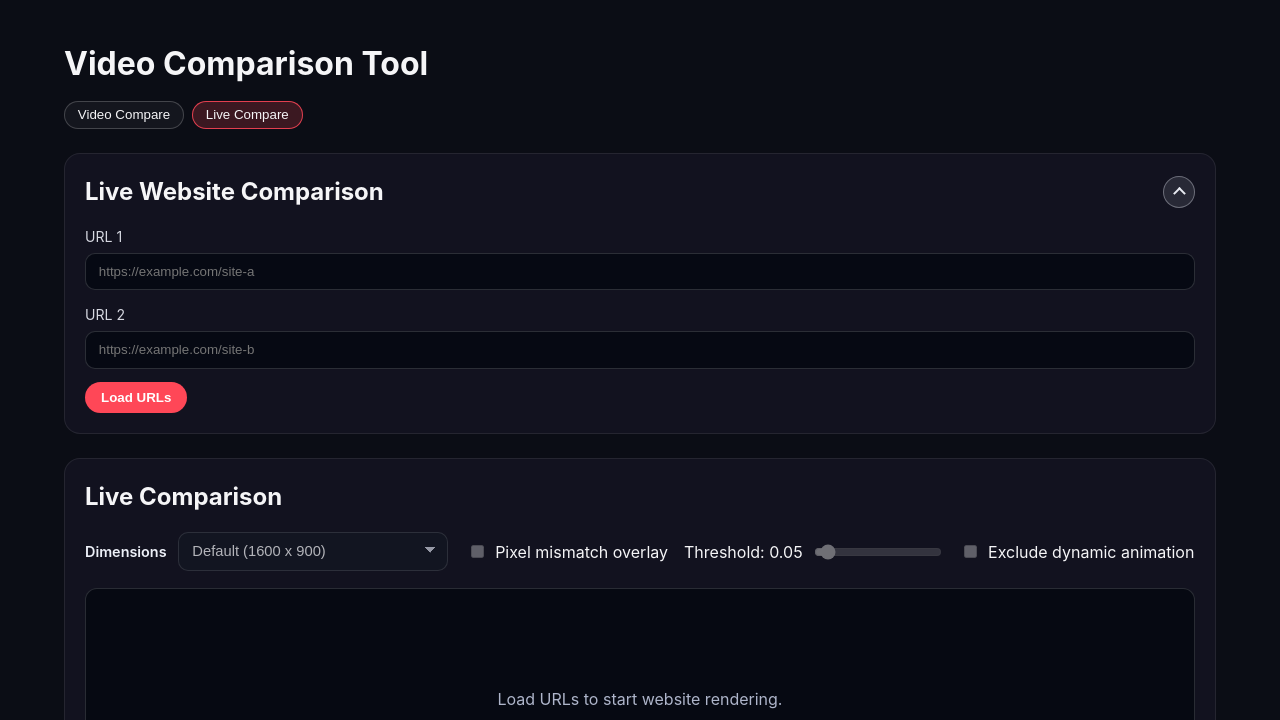
Test case: LiveComparePage › shows validation error when URLs are missing
Click the button "Load URLs" at (136, 398), box [85,382,187,413]
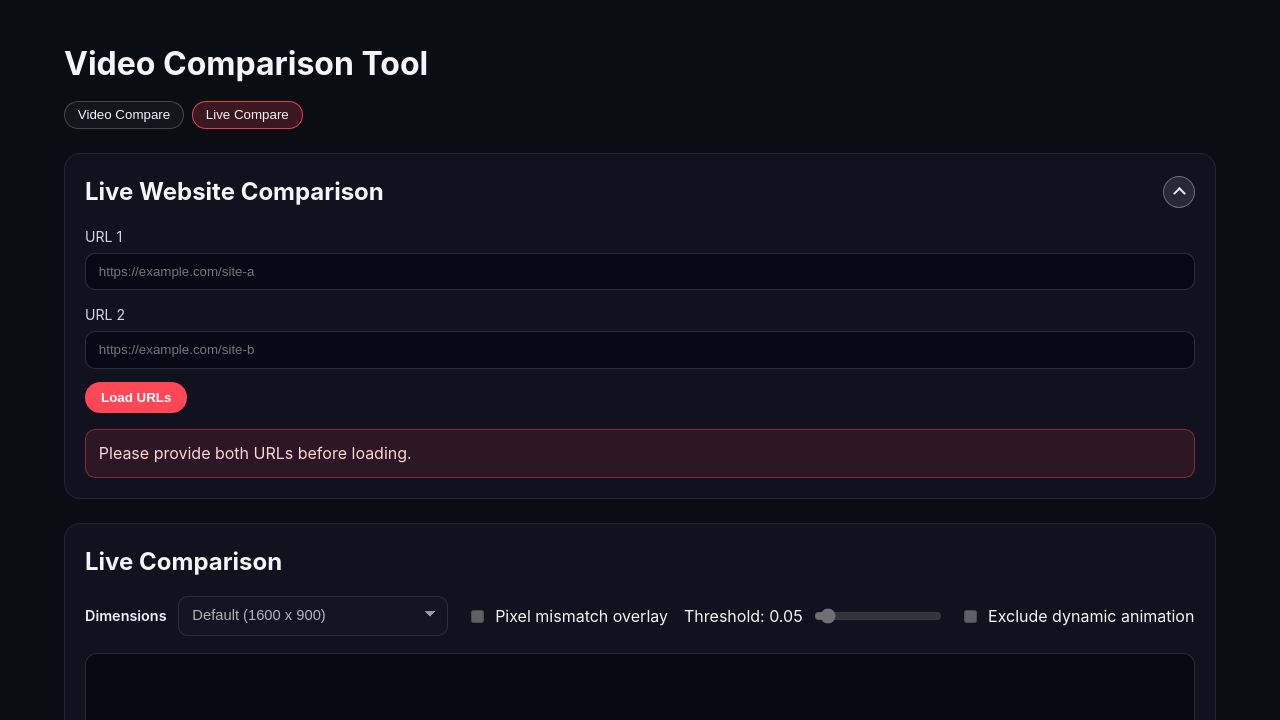
Expected: the text "Please provide both URLs before loading." is shown, [99,443,412,463]
